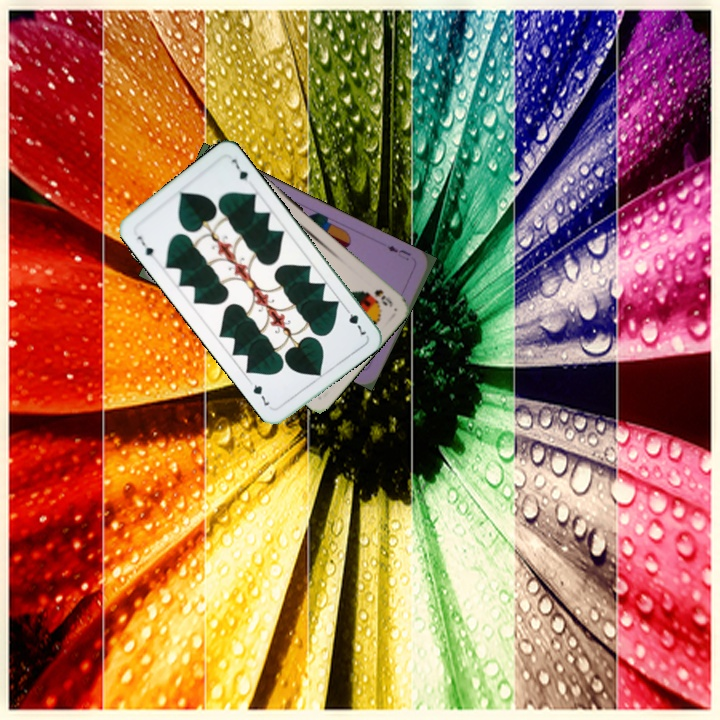EU: (383, 241, 414, 263)
G7: (341, 303, 369, 338), (133, 232, 156, 259)
SO: (370, 285, 395, 309)
